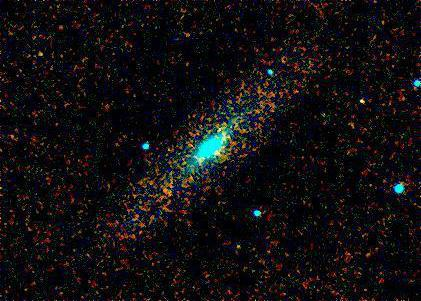star: (347, 86, 377, 116)
